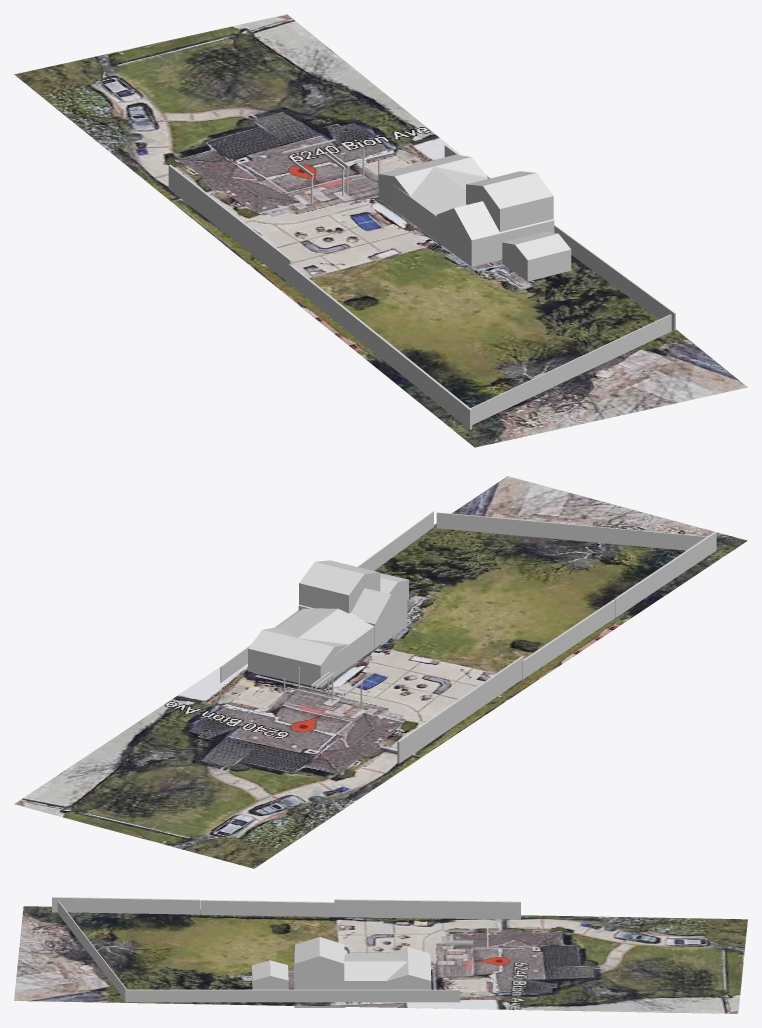
Rendered from backyard4.glb.
The picture shows the model from 3 angles, top to bottom: view 1: azimuth 30°, elevation 25°; view 2: azimuth 150°, elevation 25°; view 3: azimuth 270°, elevation 25°; orthographic projection. The views are drawn at different scales.
Parts seen in each view (by area): view 1: Backyard Screenshot_1, Cube.014, Cube.015, Cube.018, Cube.001, Cube.010, Cube.005, Cube.004, Cube.019, Cube.009, Cube.003; view 2: Backyard Screenshot_1, Cube.018, Cube.009, Cube.010, Cube.001, Cube.015, Cube.004, Cube.014, Cube.003, Cube.019; view 3: Backyard Screenshot_1, Cube.019, Cube.001, Cube.015, Cube.004, Cube.003, Cube.010, Cube.009, Cube.005, Cube.018.
Boxes of the visible parts, x1=… form: Backyard Screenshot_1: x1=14, y1=14, x2=747, y2=447; Cube.014: x1=436, y1=201, x2=554, y2=266; Cube.015: x1=466, y1=171, x2=553, y2=231; Cube.018: x1=470, y1=314, x2=671, y2=424; Cube.001: x1=168, y1=164, x2=292, y2=282; Cube.010: x1=393, y1=166, x2=488, y2=240; Cube.005: x1=502, y1=231, x2=571, y2=281; Cube.004: x1=375, y1=333, x2=471, y2=429; Cube.019: x1=444, y1=145, x2=675, y2=330; Cube.009: x1=378, y1=154, x2=487, y2=208; Cube.003: x1=288, y1=264, x2=376, y2=352; Backyard Screenshot_1: x1=14, y1=476, x2=747, y2=868; Cube.018: x1=436, y1=512, x2=706, y2=550; Cube.009: x1=248, y1=627, x2=348, y2=688; Cube.010: x1=277, y1=608, x2=374, y2=678; Cube.001: x1=397, y1=656, x2=523, y2=763; Cube.015: x1=299, y1=560, x2=380, y2=613; Cube.004: x1=613, y1=532, x2=716, y2=617; Cube.014: x1=298, y1=588, x2=407, y2=648; Cube.003: x1=522, y1=599, x2=615, y2=679; Cube.019: x1=220, y1=511, x2=433, y2=682; Backyard Screenshot_1: x1=14, y1=906, x2=747, y2=1013; Cube.019: x1=125, y1=989, x2=460, y2=1002; Cube.001: x1=334, y1=899, x2=520, y2=919; Cube.015: x1=295, y1=937, x2=344, y2=989; Cube.004: x1=52, y1=897, x2=200, y2=914; Cube.003: x1=200, y1=900, x2=334, y2=916; Cube.010: x1=344, y1=953, x2=407, y2=989; Cube.009: x1=385, y1=947, x2=431, y2=989; Cube.005: x1=252, y1=960, x2=288, y2=989; Cube.018: x1=57, y1=900, x2=126, y2=1000.
Size of the model in its own units: 52.76 by 11.89 by 152.
Materials: 1 (1 with a texture image).
